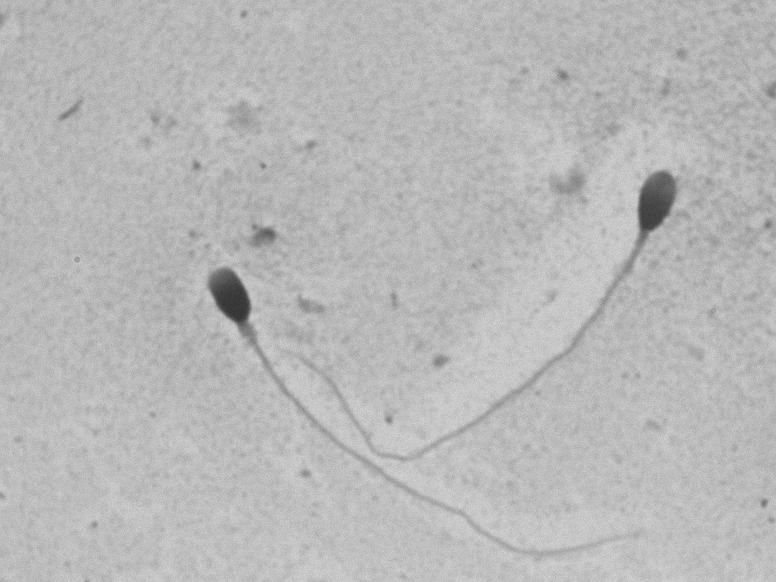Normal: (150, 237, 666, 566), (269, 146, 702, 479)
